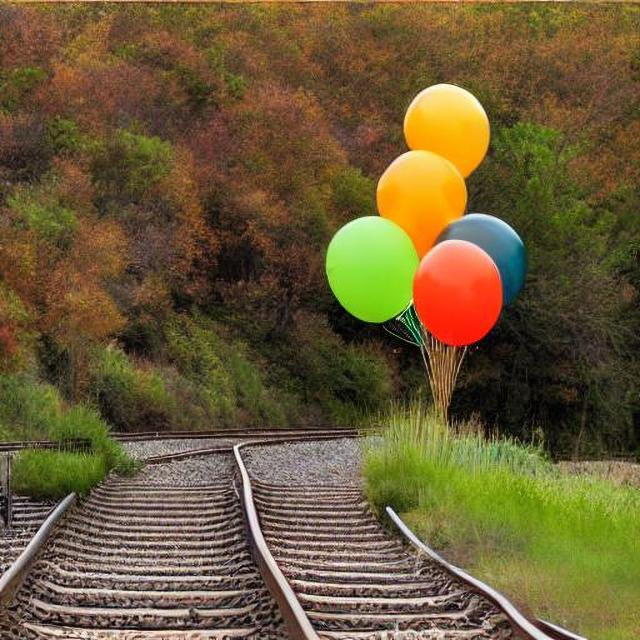balloon: (332, 130, 536, 356), (394, 79, 492, 187)
